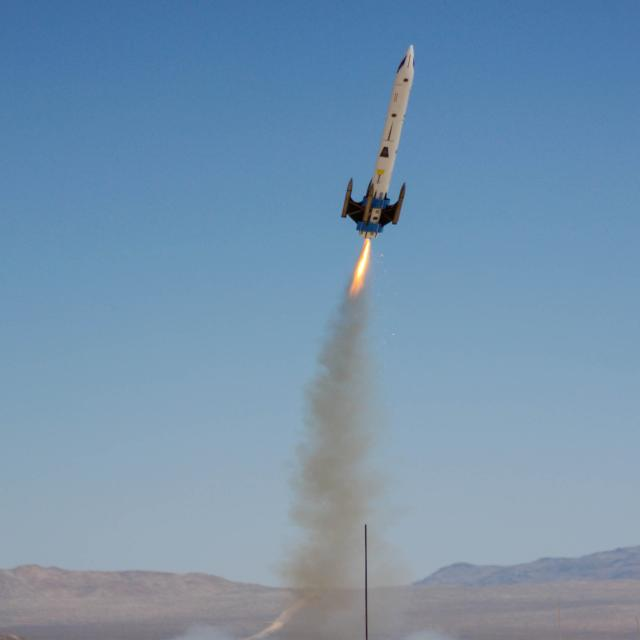Rocket: (340, 43, 416, 239)
